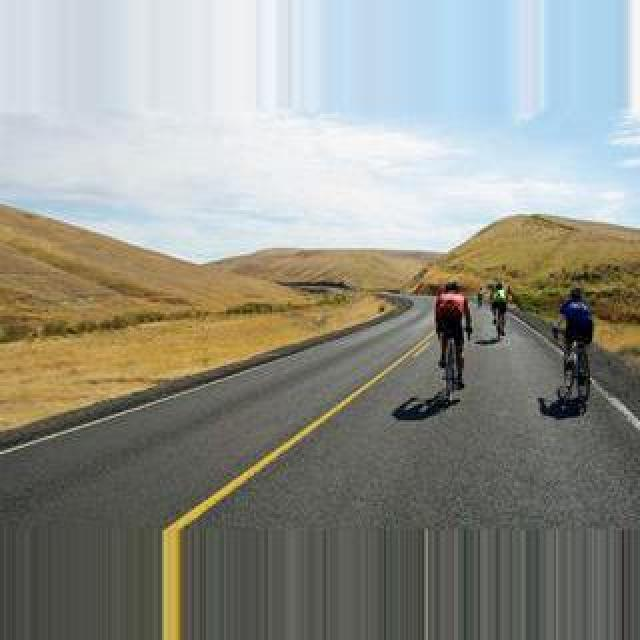MC-Bike: (432, 280, 470, 390), (558, 284, 596, 380), (490, 280, 508, 338)
Person: (562, 336, 594, 408), (440, 336, 466, 402), (492, 306, 506, 340)
